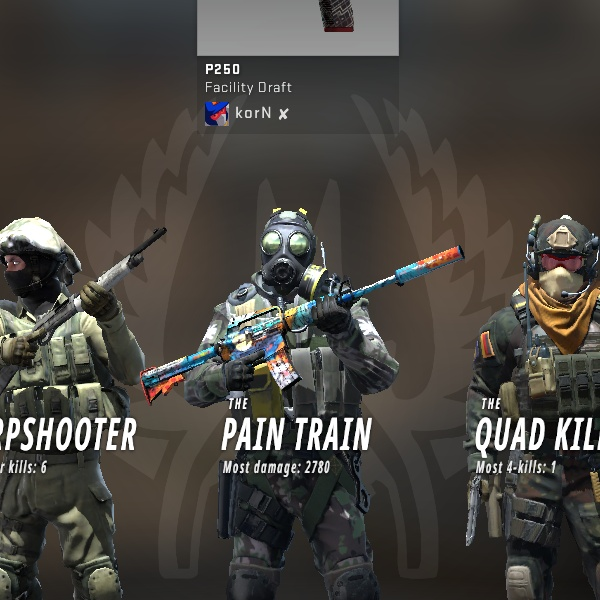ct_body: (165, 203, 378, 593), (425, 187, 590, 600), (2, 200, 160, 600)
ct_head: (514, 200, 597, 316), (0, 204, 85, 313)
